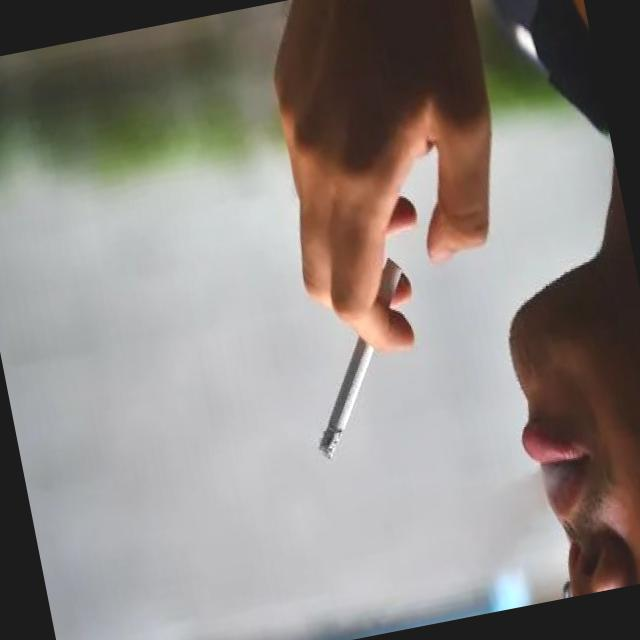cigarette: (286, 252, 438, 462)
